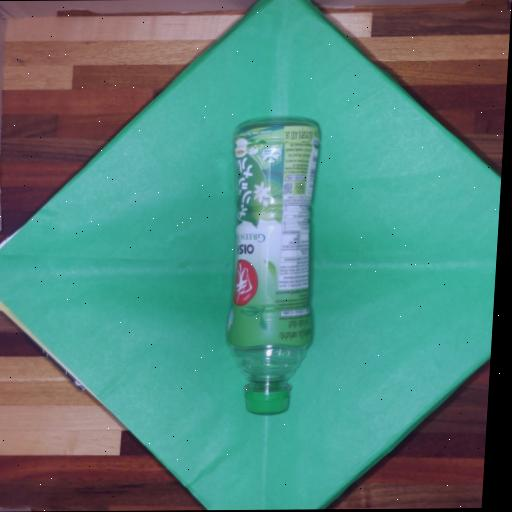bottle: (227, 122, 319, 413)
